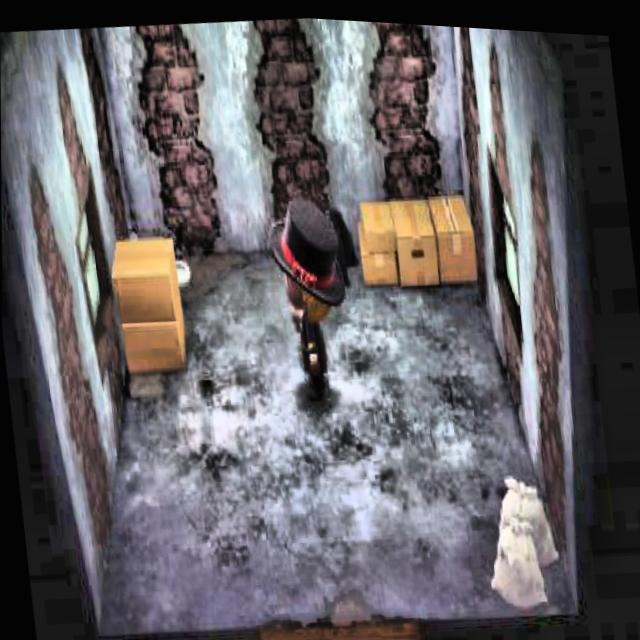Cardbox: (353, 185, 480, 292), (106, 229, 194, 381)
